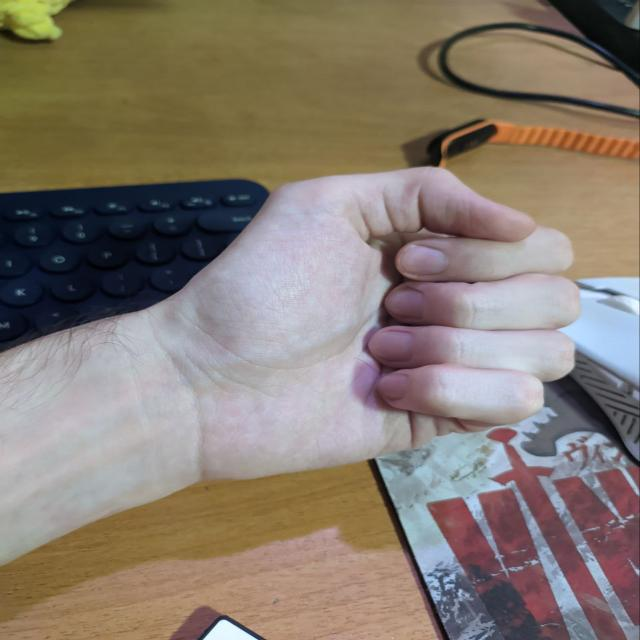a: (277, 165, 588, 463)
